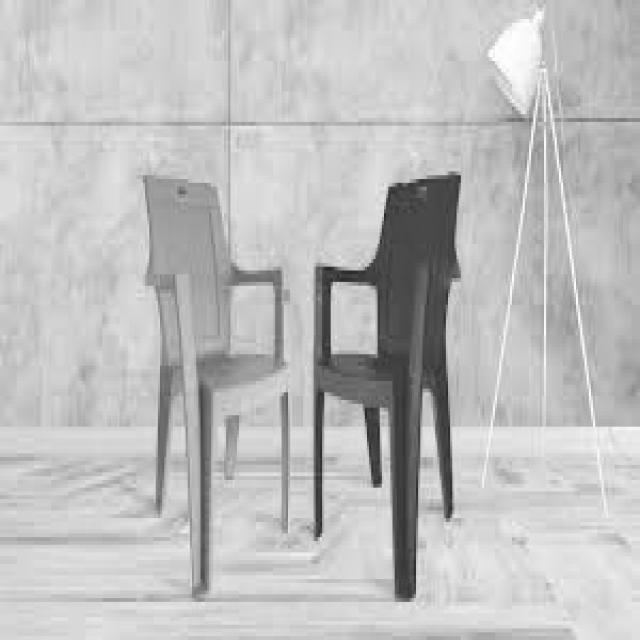chair: (140, 168, 292, 610), (310, 165, 463, 598)
